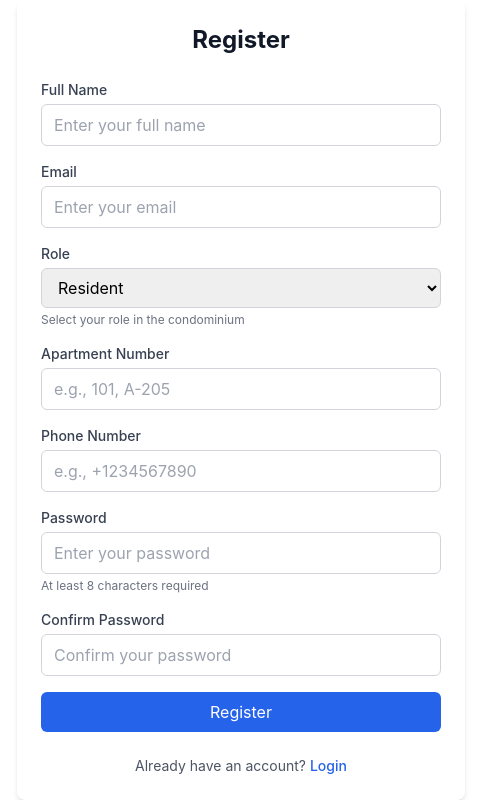
Test: RegisterForm › validates password mismatch
In the field labelled "Full Name": (241,125) [41, 104, 441, 146], type "John Doe"
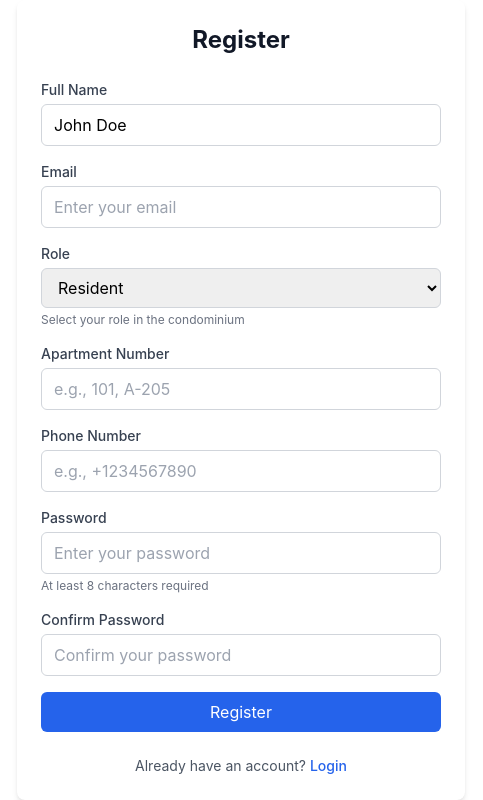
In the field labelled "Email": (241,207) [41, 186, 441, 228], type "john@example.com"
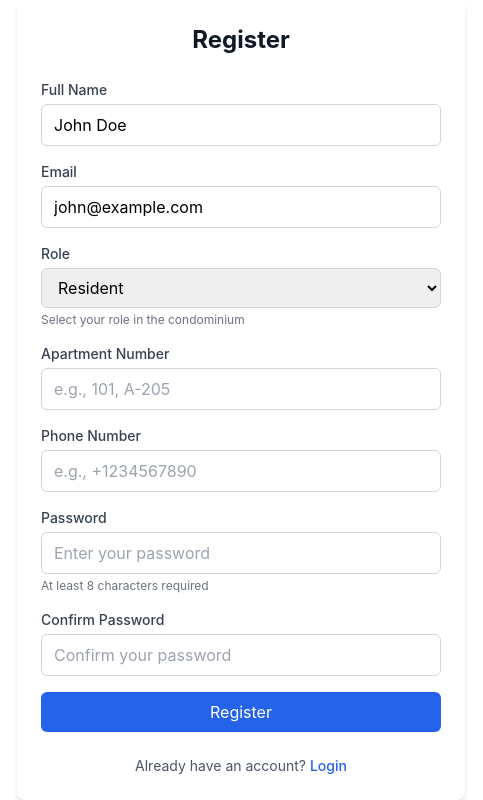
In the password field labelled "Password": (241,553) [41, 532, 441, 574], type "password123"
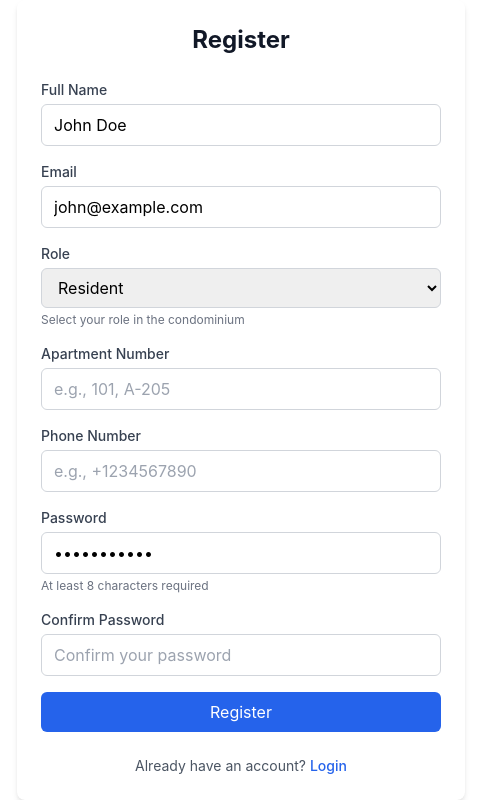
In the password field labelled "Confirm Password": (241,655) [41, 634, 441, 676], type "differentpassword"
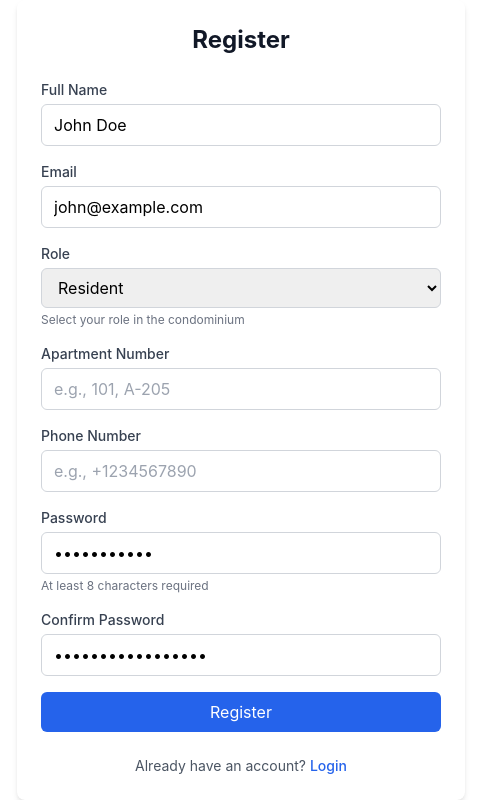
Click the button "Register": (241,712) [41, 692, 441, 732]
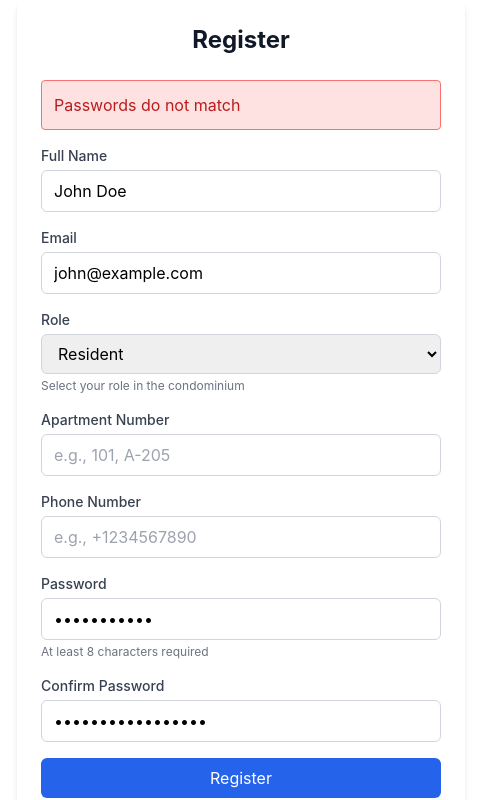
Result: the text "Passwords do not match" is shown at [41, 80, 441, 130]
